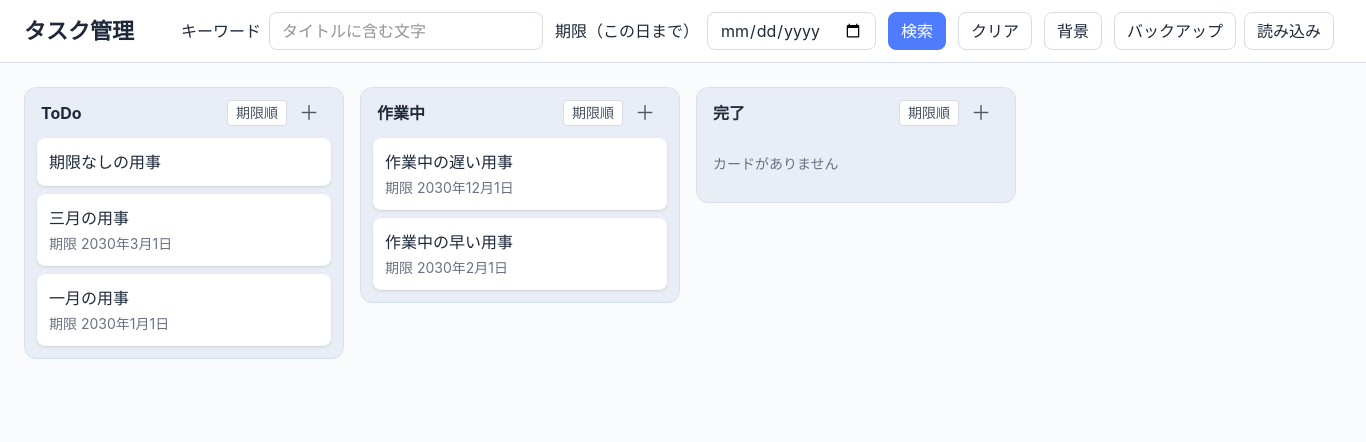
並び替えに失敗したら、エラーを表示して、並びはそのまま
The image size is (1366, 442).
Expected: the element "ToDo" is shown, [24,87,344,359]
What coordinates should you click on to do the following:
click the button with aria-label "ToDoを期限順に並べ替え"
I would click on:
 (257, 113)
Its box is [227,100,287,126].
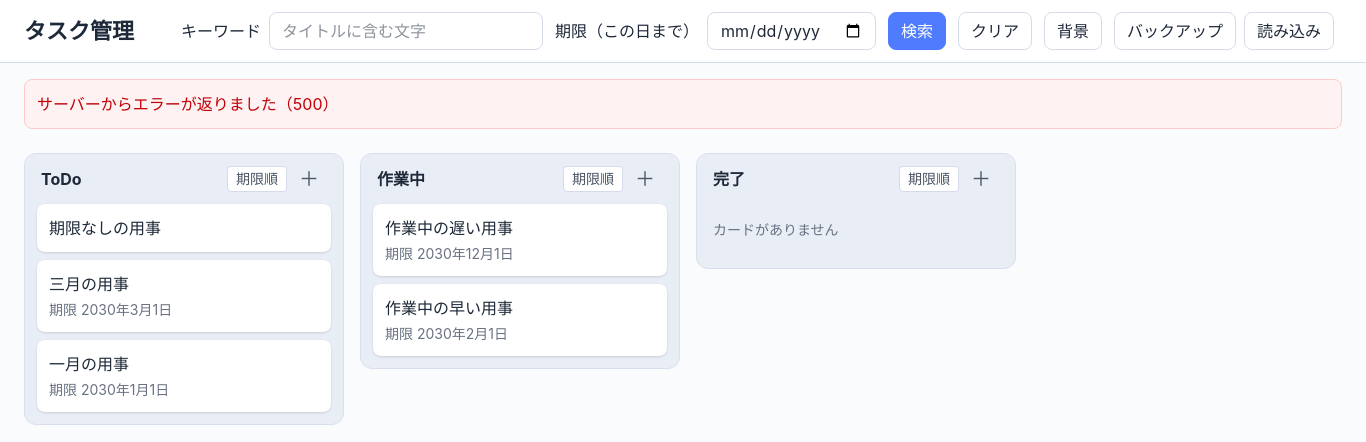
Expected: the text "期限なしの用事" is shown, [49,218,161,238]
Expected: the message shows "サーバーからエラーが返りました", [37,94,338,114]
